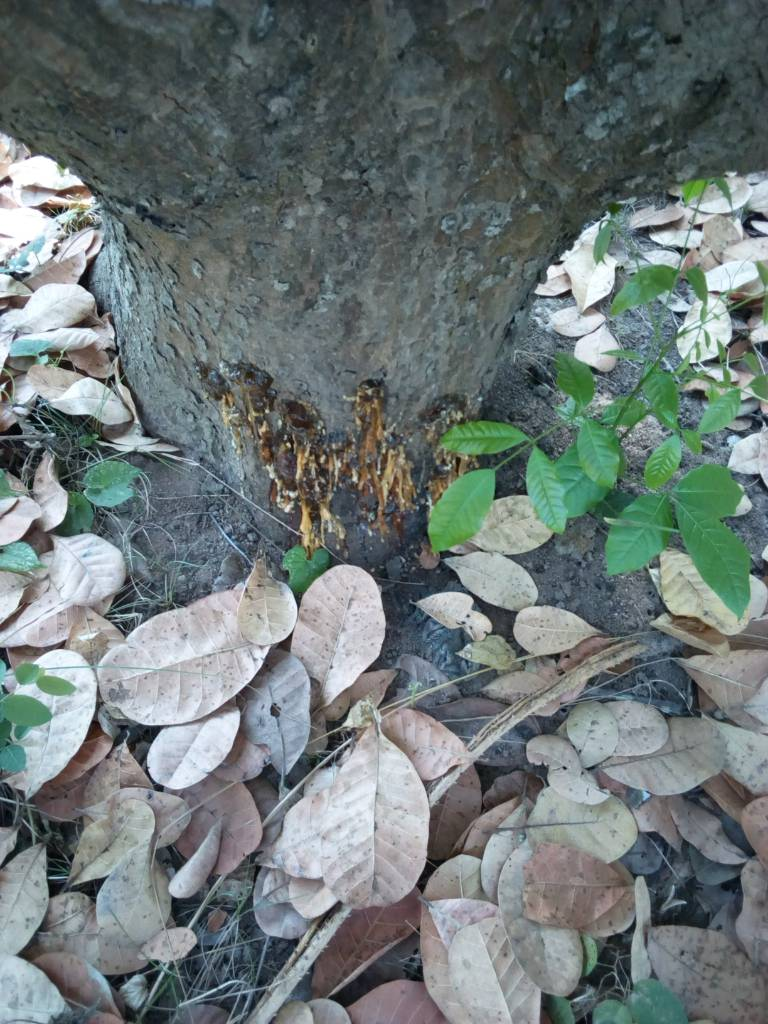Gommose: (205, 367, 479, 535)
